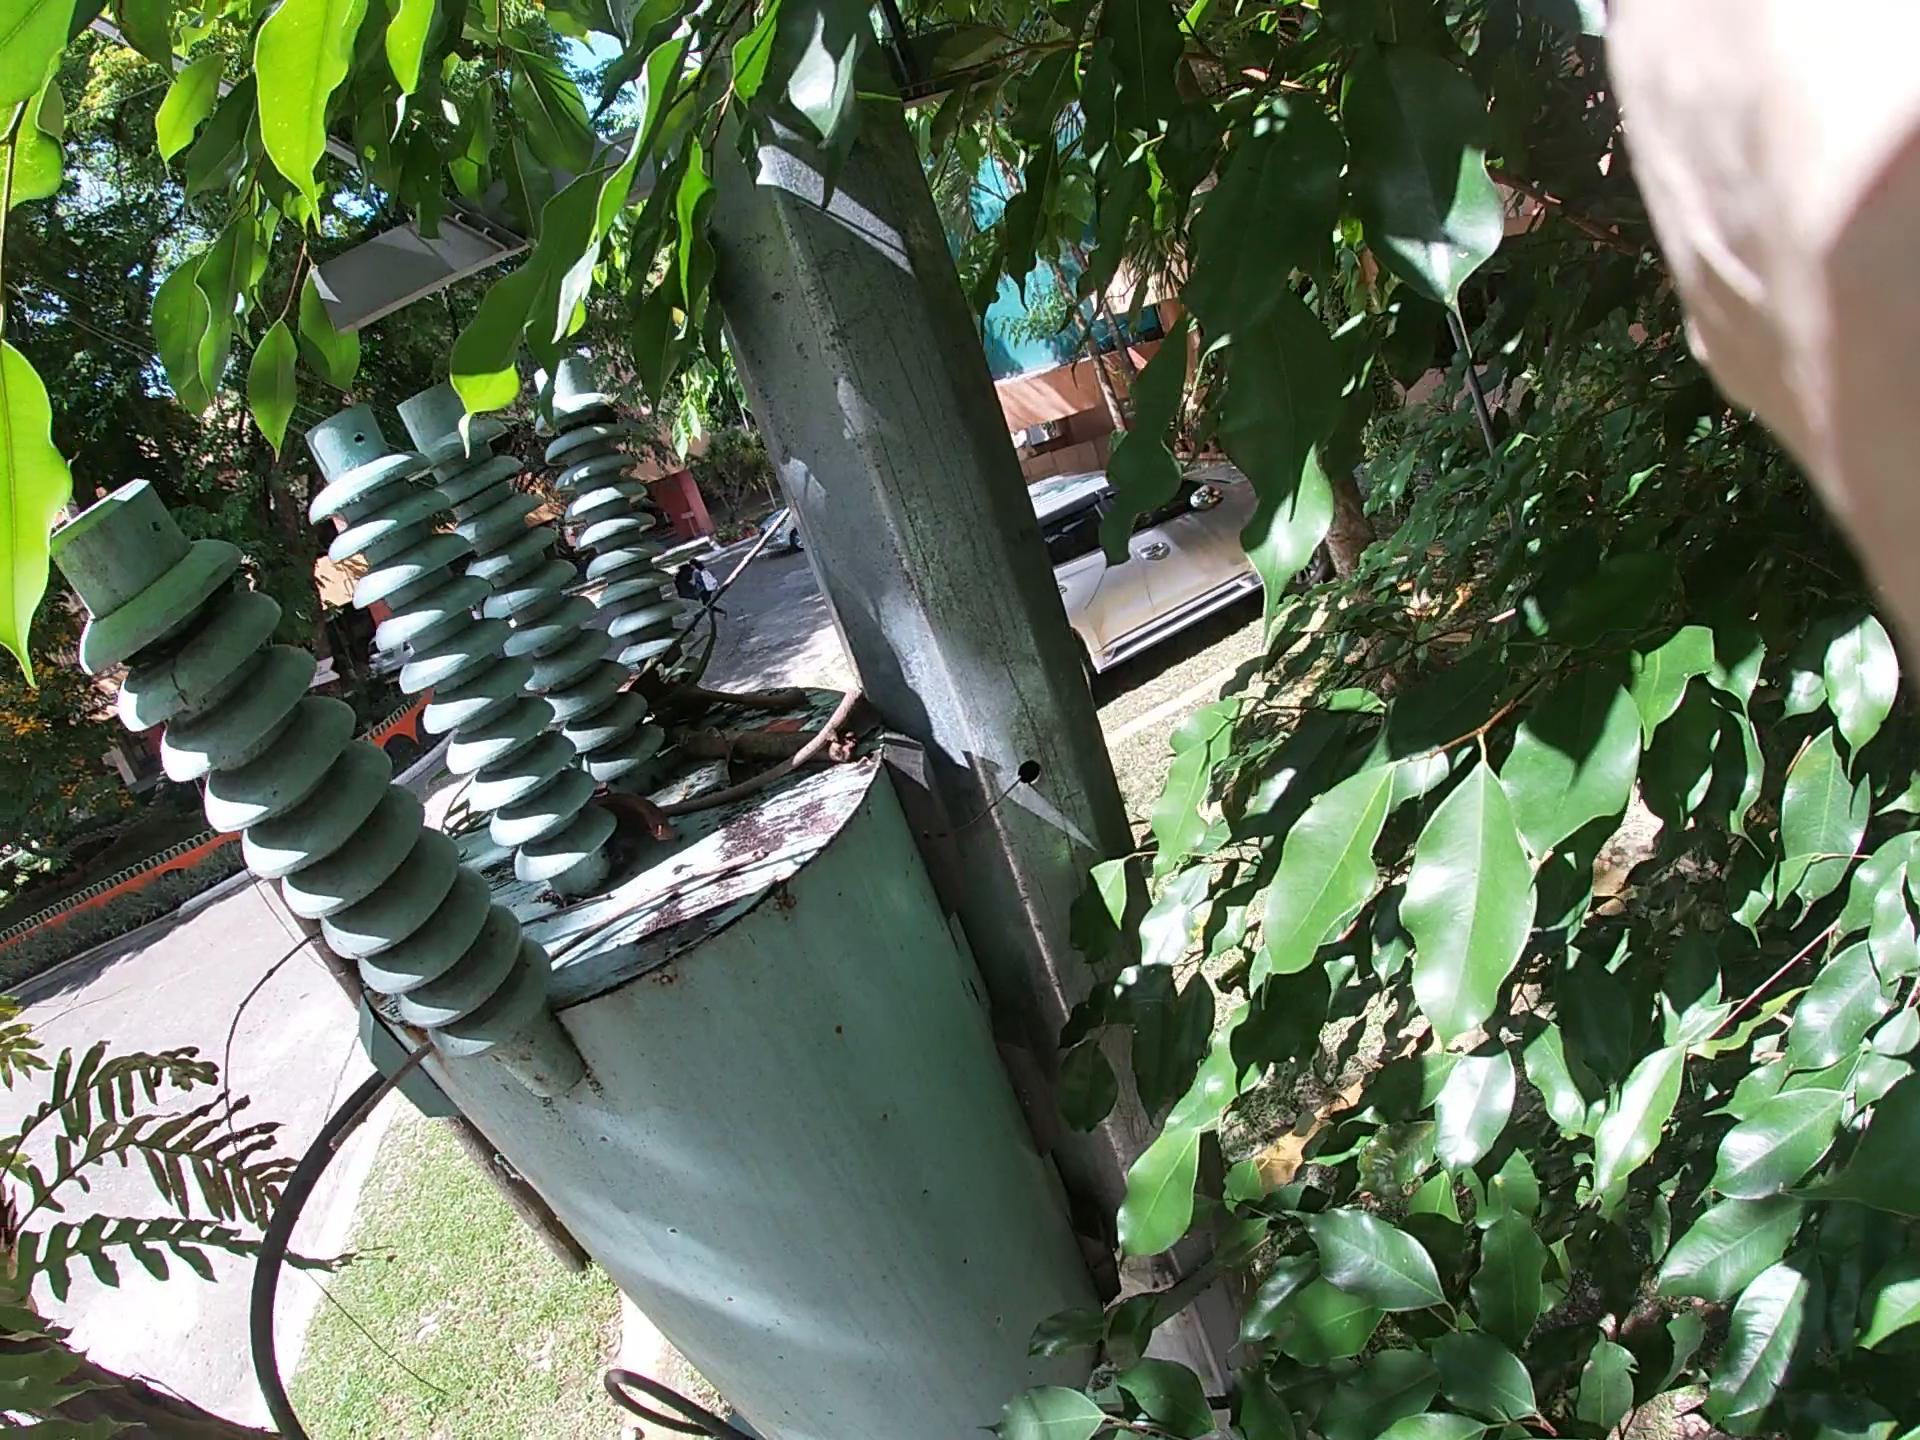branch with leaves: (618, 579, 730, 755)
leaf: (750, 703, 848, 759)
mahogany fruit: (562, 755, 774, 909)
tree branch: (245, 653, 650, 1249), (305, 824, 831, 1162), (621, 655, 949, 820)
